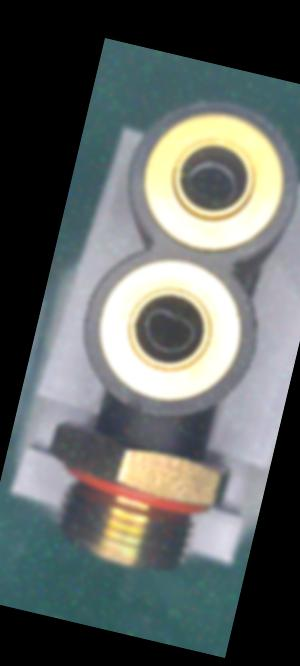bump: (114, 392, 154, 420)
off-centered: (176, 151, 243, 212), (135, 305, 204, 359)
